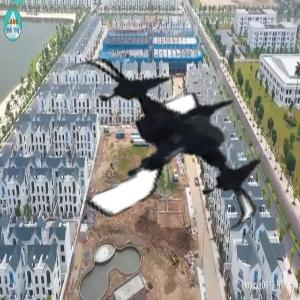drone: (58, 37, 276, 255)
